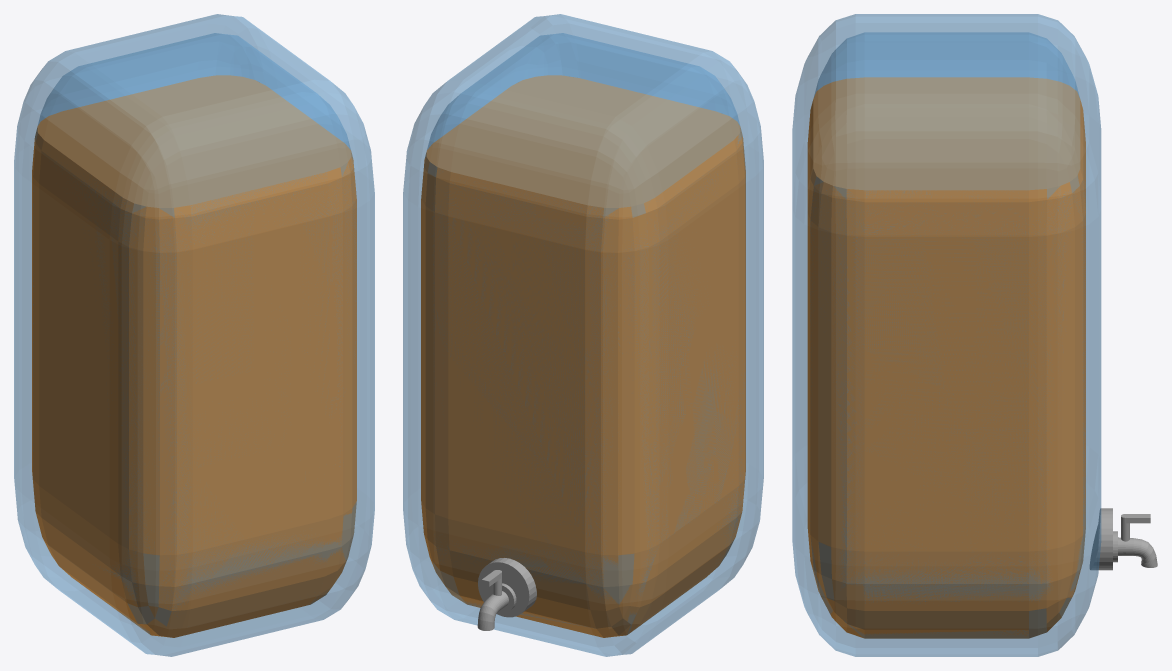
Rendered from JuiceBarrel.fbx.
3 views of the same model, side by side, from view 1: azimuth 30°, elevation 25°; view 2: azimuth 150°, elevation 25°; view 3: azimuth 270°, elevation 25° (orthographic). The views are drawn at different scales.
Parts seen in each view (by area): view 1: Glas, Juice; view 2: Glas, Juice, Cylinder, pipe; view 3: Glas, Juice, Cylinder, pipe.
Part boxes in pixels (x1,y1,x2,y2): Glas: (14, 14, 374, 656); Juice: (32, 75, 356, 637); Glas: (403, 14, 763, 656); Juice: (421, 75, 745, 637); Cylinder: (478, 558, 536, 617); pipe: (477, 591, 508, 630); Glas: (792, 14, 1101, 656); Juice: (807, 77, 1085, 638); Cylinder: (1090, 508, 1112, 570); pipe: (1118, 537, 1157, 567).
Bounding box in the file's own units: 100 × 200 × 118.
